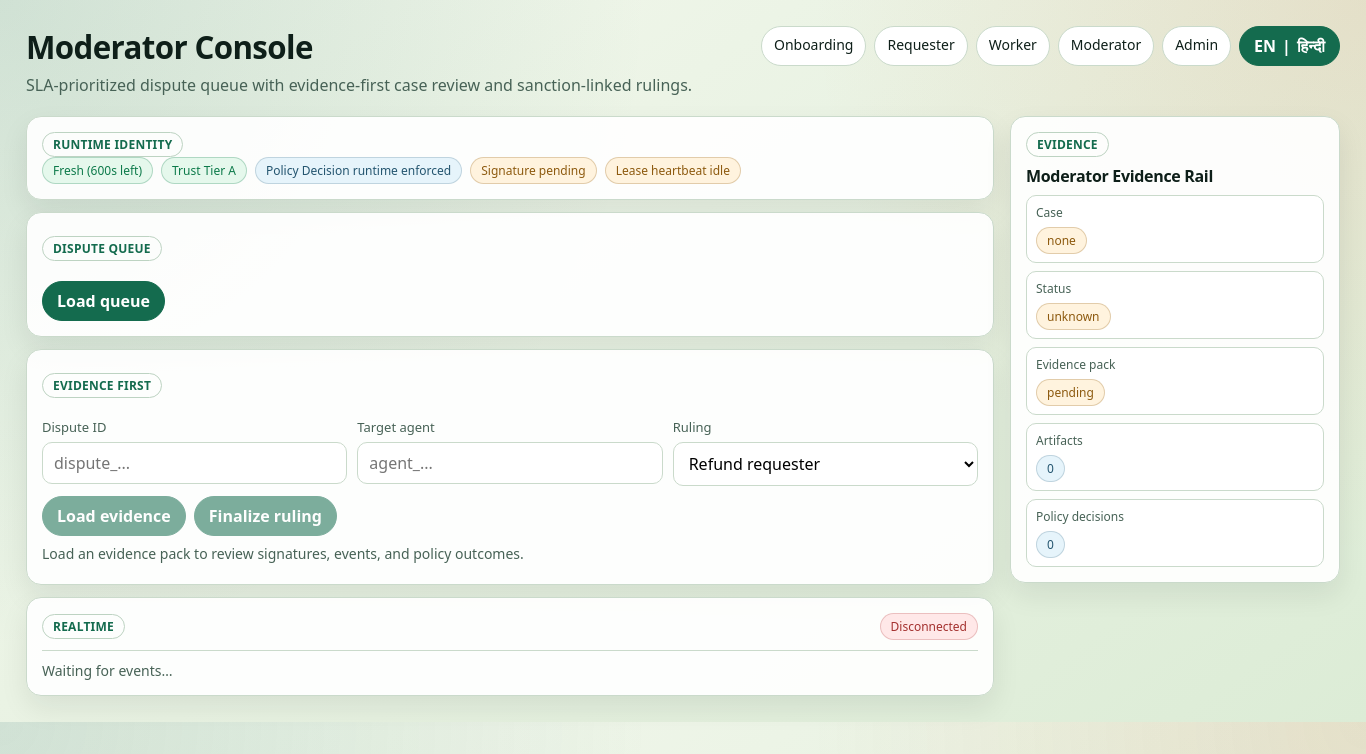
ModeratorPage — Load queue › shows "No disputes in queue." after empty queue loads
Click the button "Load queue": (104, 301) [42,281,165,321]
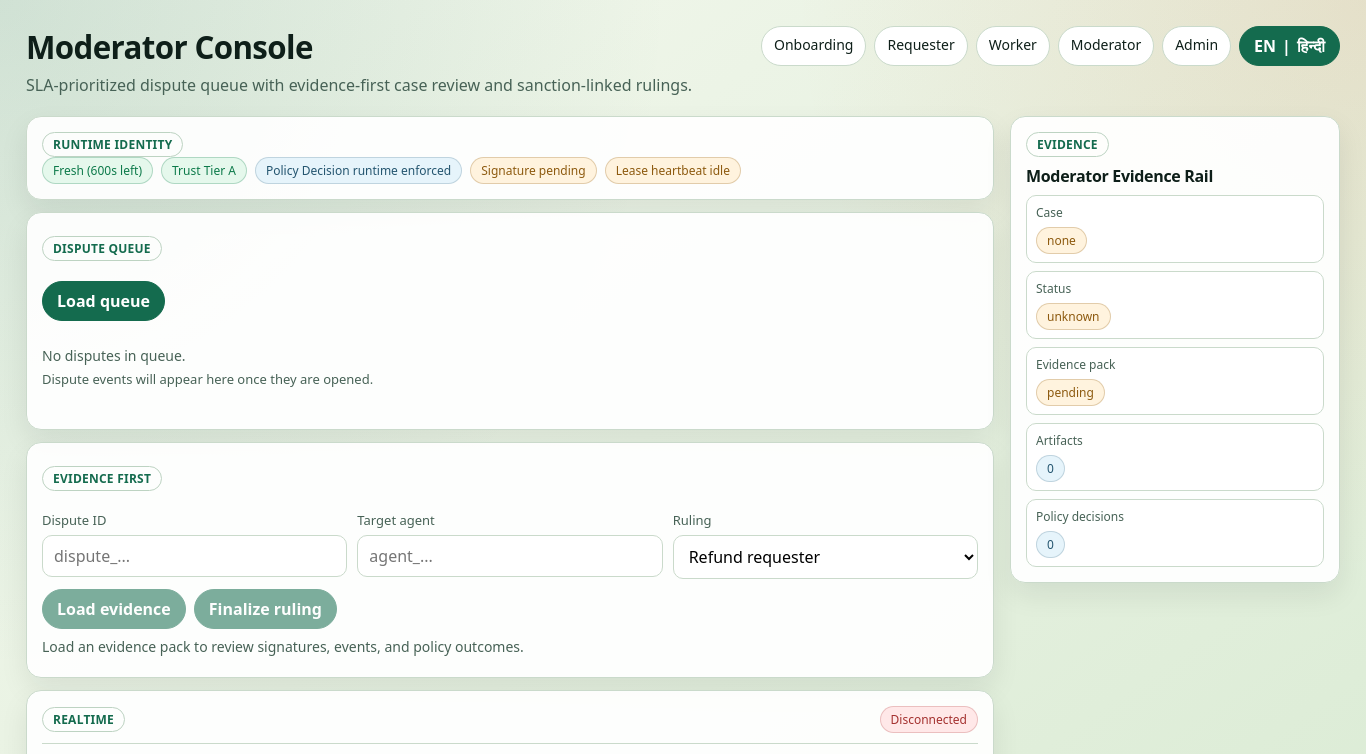
Now the text "No disputes in queue." is shown, box [42,346,186,365]
